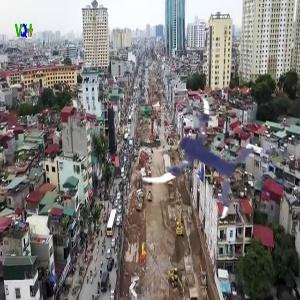drone: (139, 94, 259, 214)
